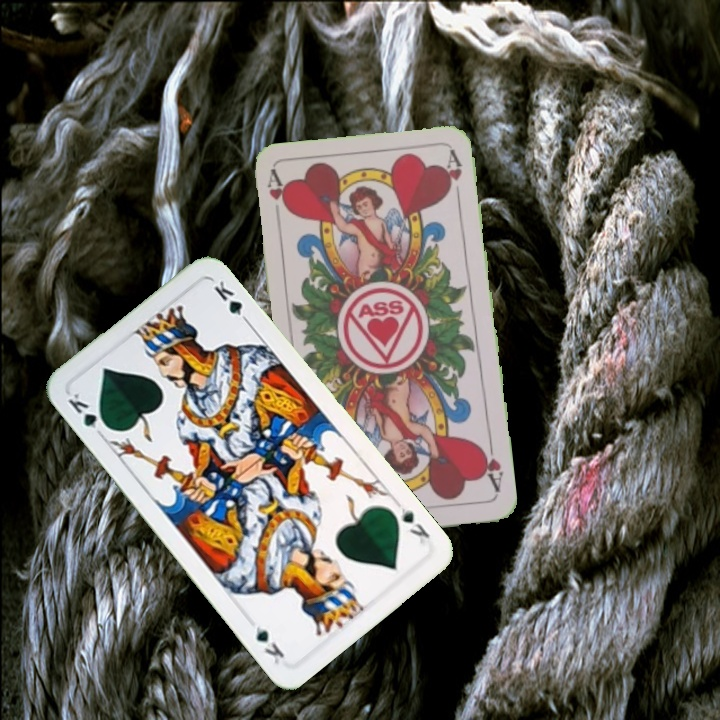GK: (63, 388, 112, 440), (394, 504, 433, 551)
HA: (476, 437, 506, 495), (263, 168, 291, 227)
